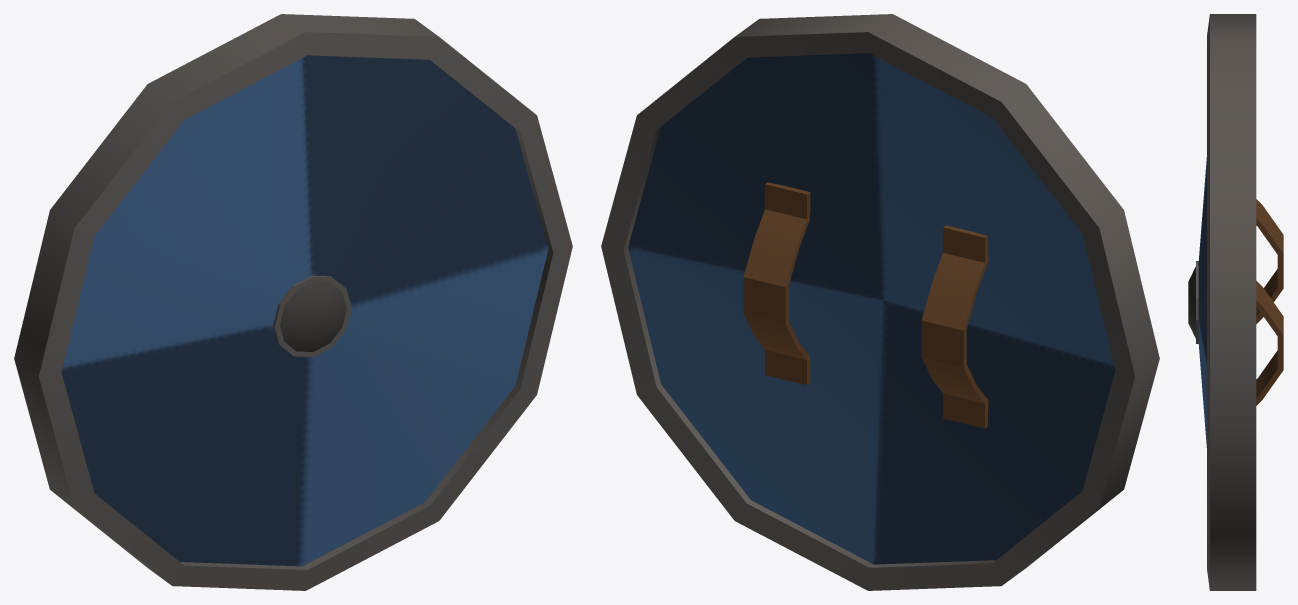
Rendered from Round Shield_Blue.fbx.
3 renders of one model, left to right at view 1: azimuth 30°, elevation 25°; view 2: azimuth 150°, elevation 25°; view 3: azimuth 270°, elevation 25°, orthographic. The views are drawn at different scales.
Visible parts, largest first — view 1: Round Shield_Blue_Baked; view 2: Round Shield_Blue_Baked; view 3: Round Shield_Blue_Baked.
Boxes of the visible parts, left/top/right/bottom form: Round Shield_Blue_Baked: left=14, top=14, right=572, bottom=590; Round Shield_Blue_Baked: left=601, top=14, right=1159, bottom=590; Round Shield_Blue_Baked: left=1188, top=14, right=1283, bottom=590.
Bounding box in the file's own units: 60 × 60 × 9.87.
1 material, 1 textured.
